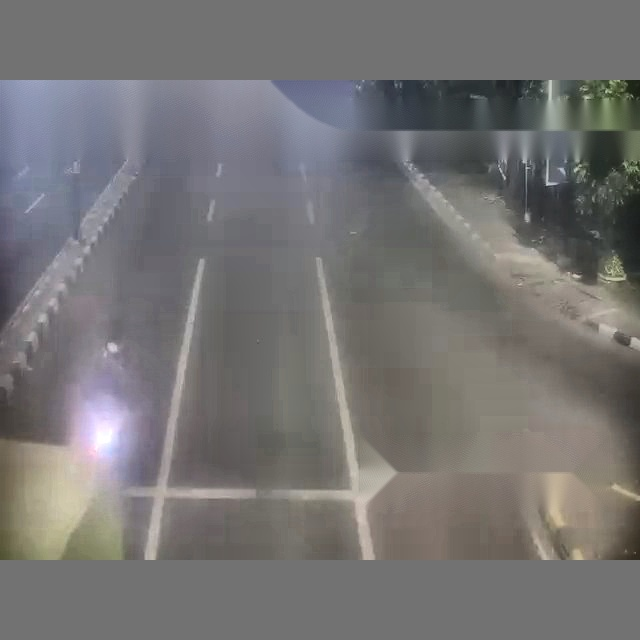Truk: (187, 76, 639, 556)
